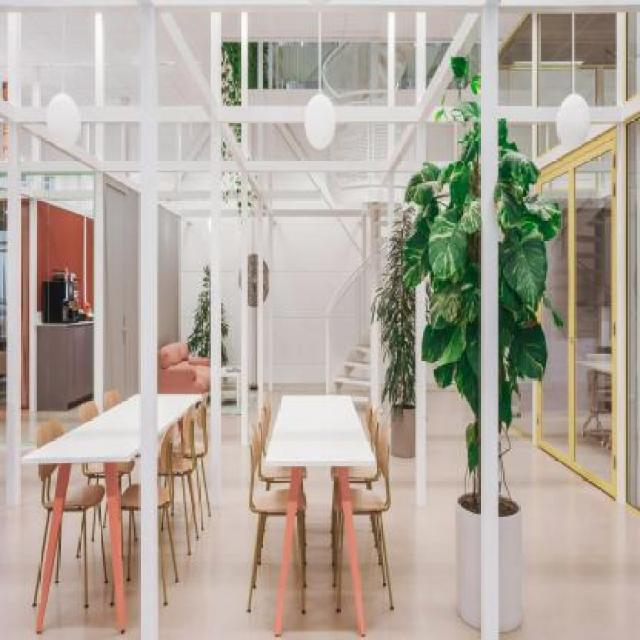Floor: (158, 384, 480, 640), (499, 428, 640, 640), (0, 446, 140, 640), (263, 383, 326, 454), (252, 461, 266, 504), (356, 410, 371, 449), (371, 468, 387, 503), (68, 463, 88, 487), (50, 464, 59, 499), (498, 428, 510, 454), (130, 458, 139, 485), (121, 474, 129, 496), (270, 482, 290, 490), (349, 483, 367, 490), (158, 476, 166, 487), (502, 423, 506, 432), (90, 479, 96, 485)
